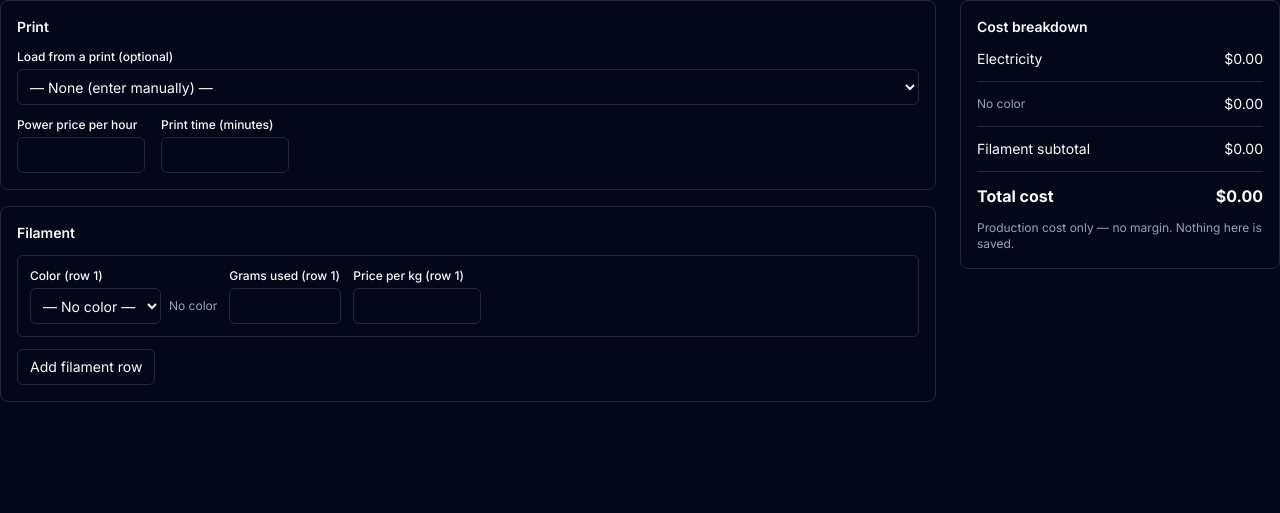
Test case: add / remove rows (R9) › Remove is not offered at one row — at least one row always remains
Expected: the button "remove row" is not shown
What coordinates should you click on to do the following:
click the button "Add filament row"
I would click on:
 (86, 367)
Its box is left=17, top=349, right=155, bottom=385.
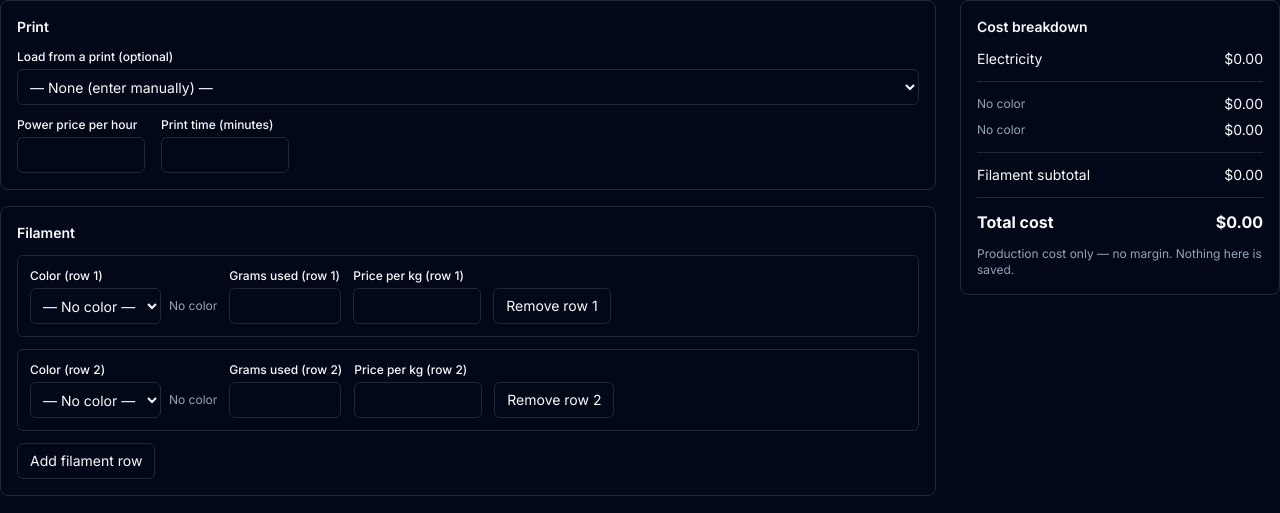
Now the number of buttons "Remove row 1" is 2
What coordinates should you click on to do the following:
click the button "Remove row 2"
I would click on:
 (554, 400)
Its box is left=494, top=382, right=614, bottom=418.
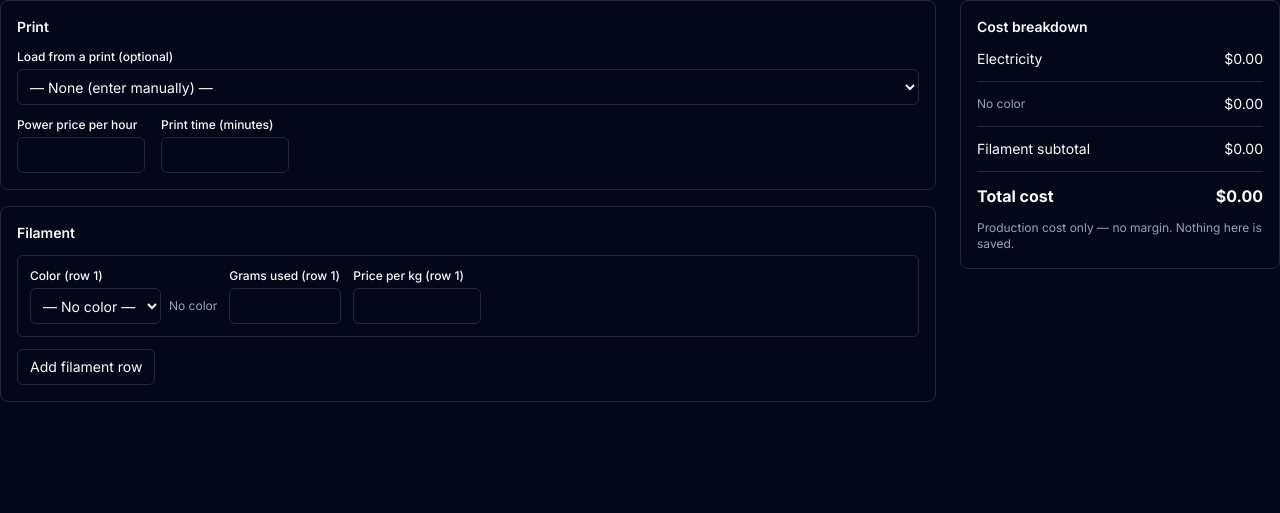
Now the number of number fields labelled "Grams used (row 1)" is 1, box left=229, top=288, right=341, bottom=324
Now the button "Remove row" is gone
